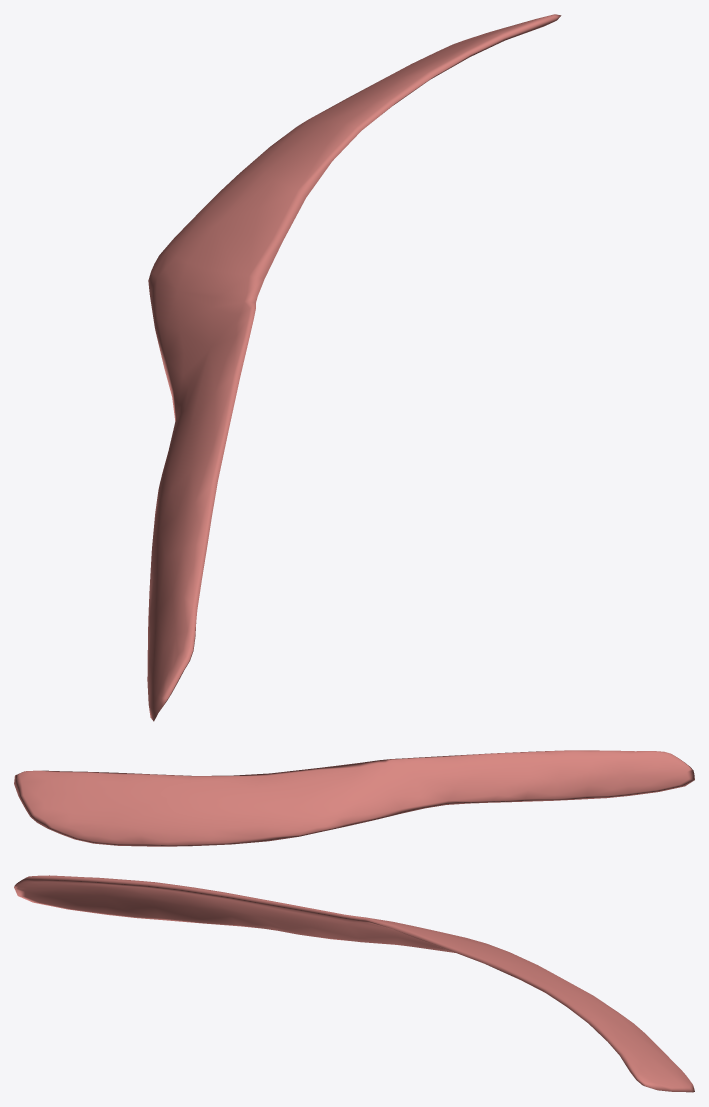
3 renders of one model, top to bottom at view 1: azimuth 30°, elevation 25°; view 2: azimuth 150°, elevation 25°; view 3: azimuth 270°, elevation 25°, orthographic. The views are drawn at different scales.
Parts seen in each view (by area): view 1: ZA_4e1b6921cf9e4d9f; view 2: ZA_4e1b6921cf9e4d9f; view 3: ZA_4e1b6921cf9e4d9f.
Boxes of the visible parts, x1=… form: ZA_4e1b6921cf9e4d9f: x1=147, y1=14, x2=561, y2=721; ZA_4e1b6921cf9e4d9f: x1=14, y1=750, x2=694, y2=846; ZA_4e1b6921cf9e4d9f: x1=14, y1=875, x2=694, y2=1092.
Size of the model in its own units: 0.049 by 0.00863 by 0.0496.
